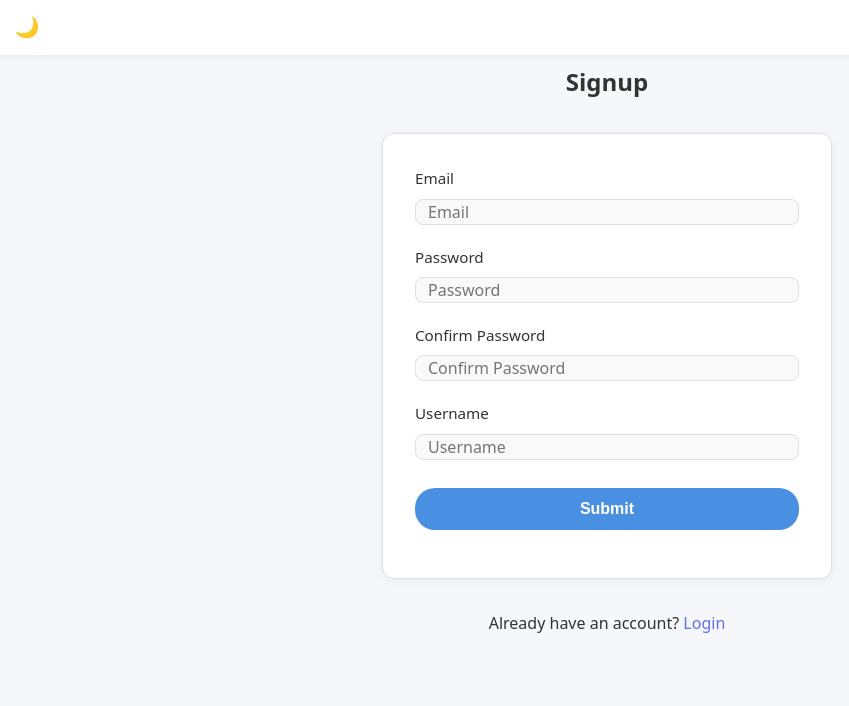
Test: Signup Page › shows error when passwords do not match
This screenshot has width=849, height=706.
In the field labelled "Email": (607, 212) [415,199,799,225], type "test@email.com"
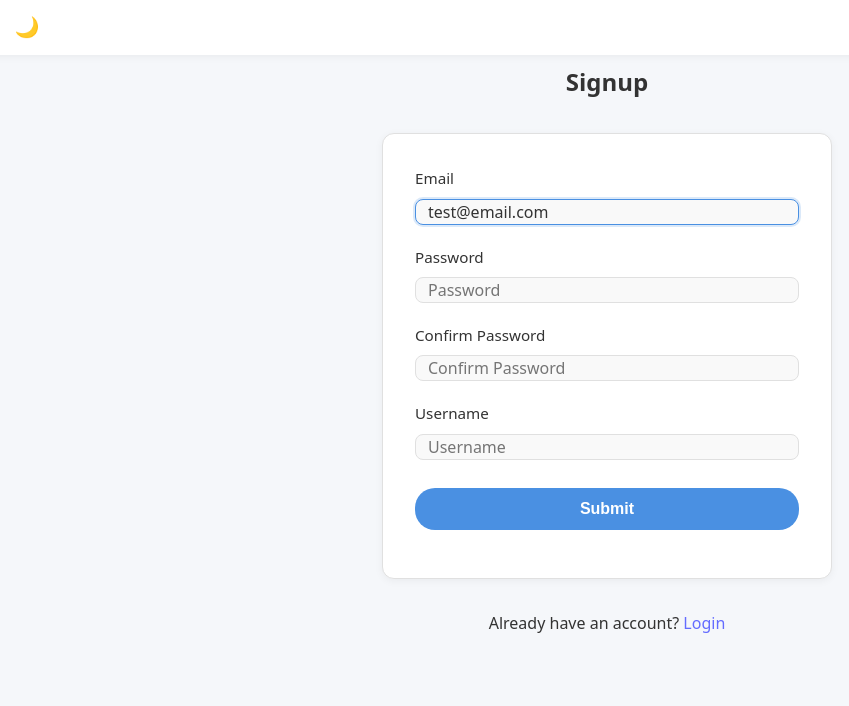
In the password field labelled "Password": (607, 290) [415,277,799,303], type "password123"
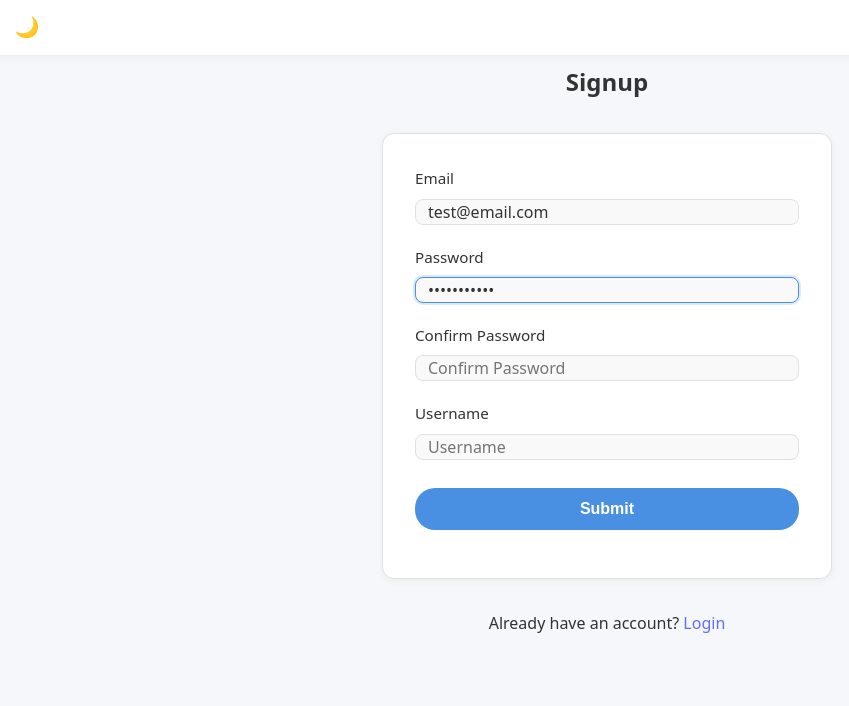
In the password field labelled "Confirm Password": (607, 368) [415,355,799,381], type "password124"
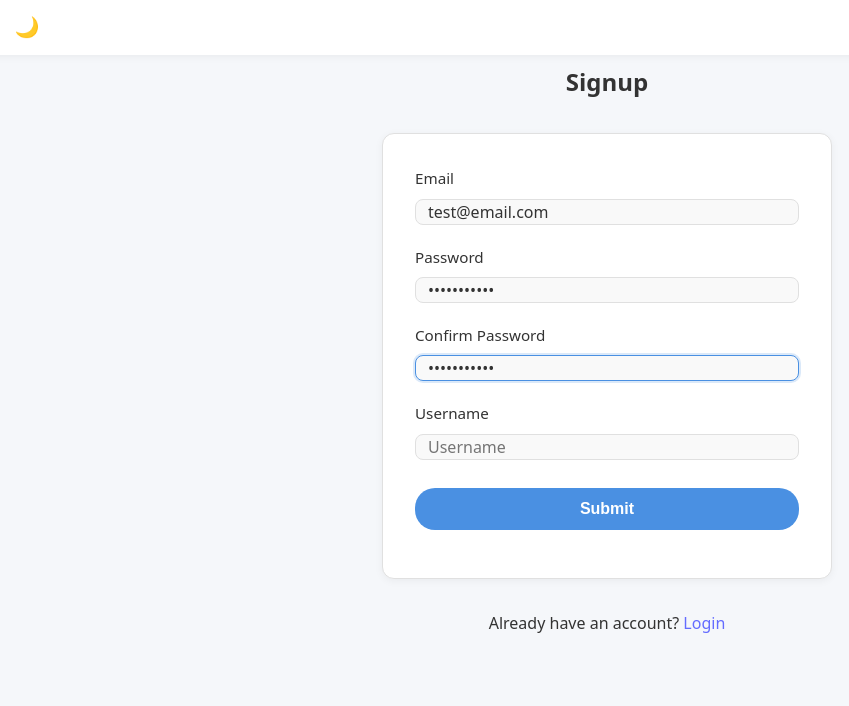
In the field labelled "Username": (607, 447) [415,434,799,460], type "testuser"
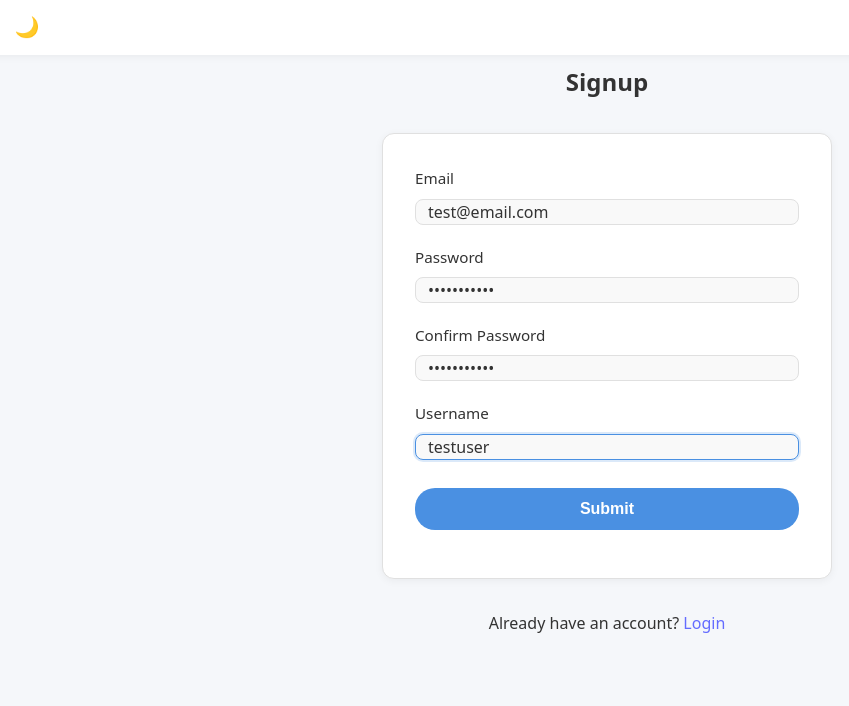
Click the button "Submit": (607, 509) [415,488,799,530]
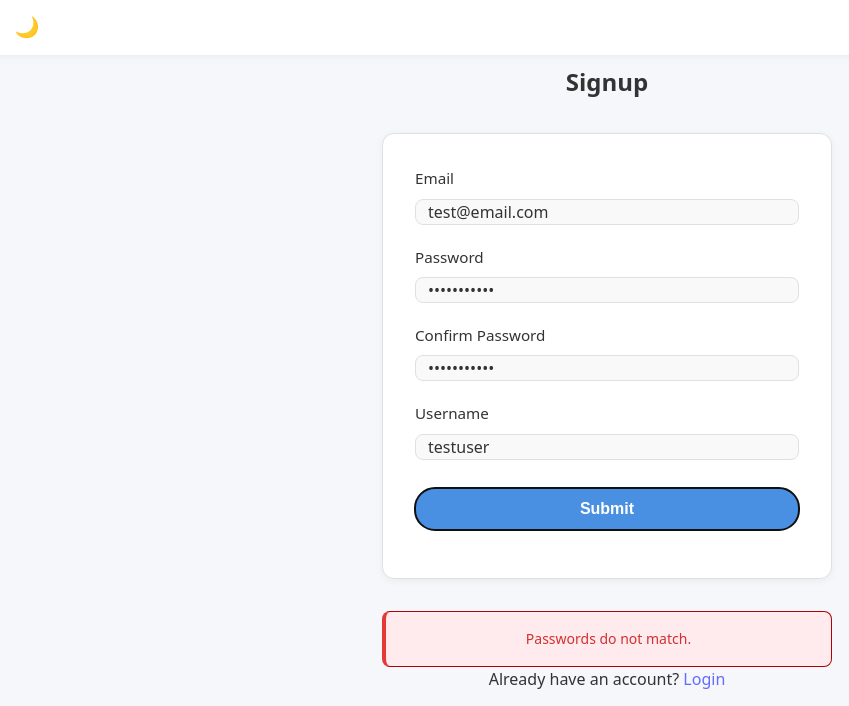
Expected: the text "Passwords do not match." is shown, [526,629,691,648]
